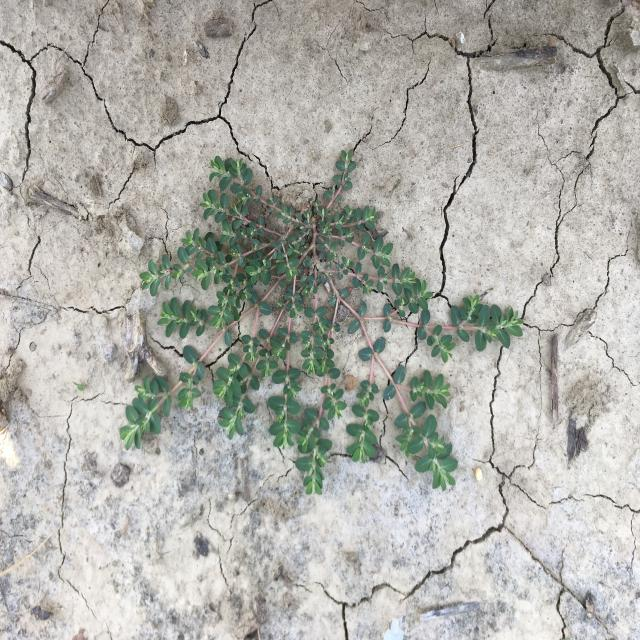SpottedSpurge: (119, 148, 524, 495)
